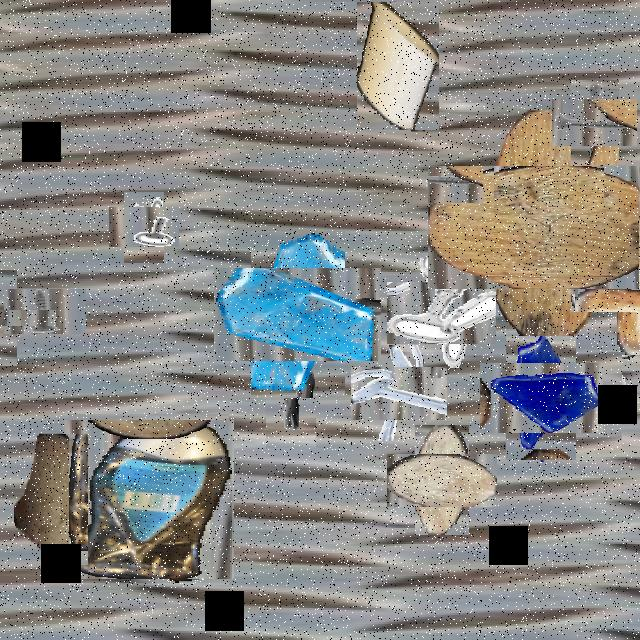glass: (233, 249, 363, 380), (492, 349, 590, 447)
metal: (547, 188, 633, 274), (398, 270, 484, 356), (362, 356, 436, 430), (266, 359, 316, 448), (562, 89, 628, 156), (13, 279, 77, 343), (116, 200, 172, 255), (0, 289, 36, 346), (622, 356, 640, 452)
plastic: (66, 417, 232, 582), (357, 2, 439, 130)
wood: (456, 138, 636, 317), (14, 434, 88, 565), (401, 439, 483, 521), (593, 265, 640, 335)
